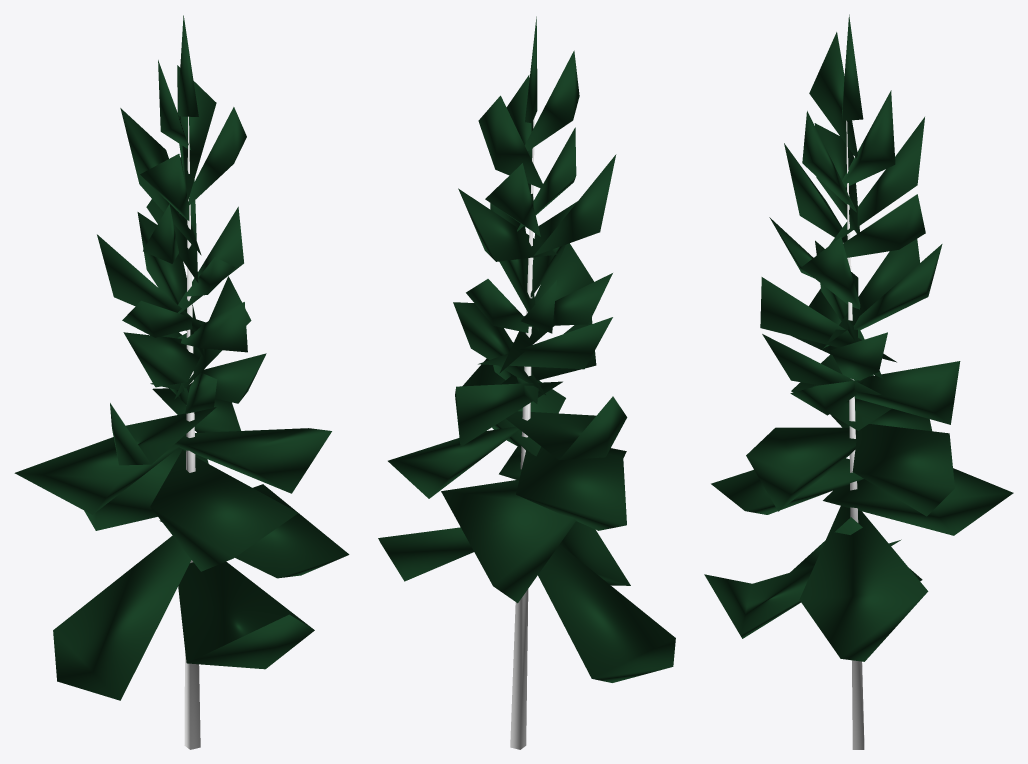
The model's file is whSpruce1_low.glb.
3 views of the same model, side by side, from view 1: azimuth 30°, elevation 25°; view 2: azimuth 150°, elevation 25°; view 3: azimuth 270°, elevation 25° (orthographic).
Visible parts, largest first — view 1: Cube; view 2: Cube; view 3: Cube.
Part boxes in pixels (x1,y1,x2,y2): Cube: (14, 15, 349, 749); Cube: (378, 16, 675, 749); Cube: (704, 14, 1013, 749).
Bounding box in the file's own units: 9.59 × 23.05 × 8.91.
